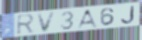3: (59, 10, 76, 31)
6: (100, 8, 115, 27)
A: (75, 9, 99, 30)
J: (120, 5, 135, 25)
R: (16, 13, 37, 37)
V: (36, 11, 57, 34)
